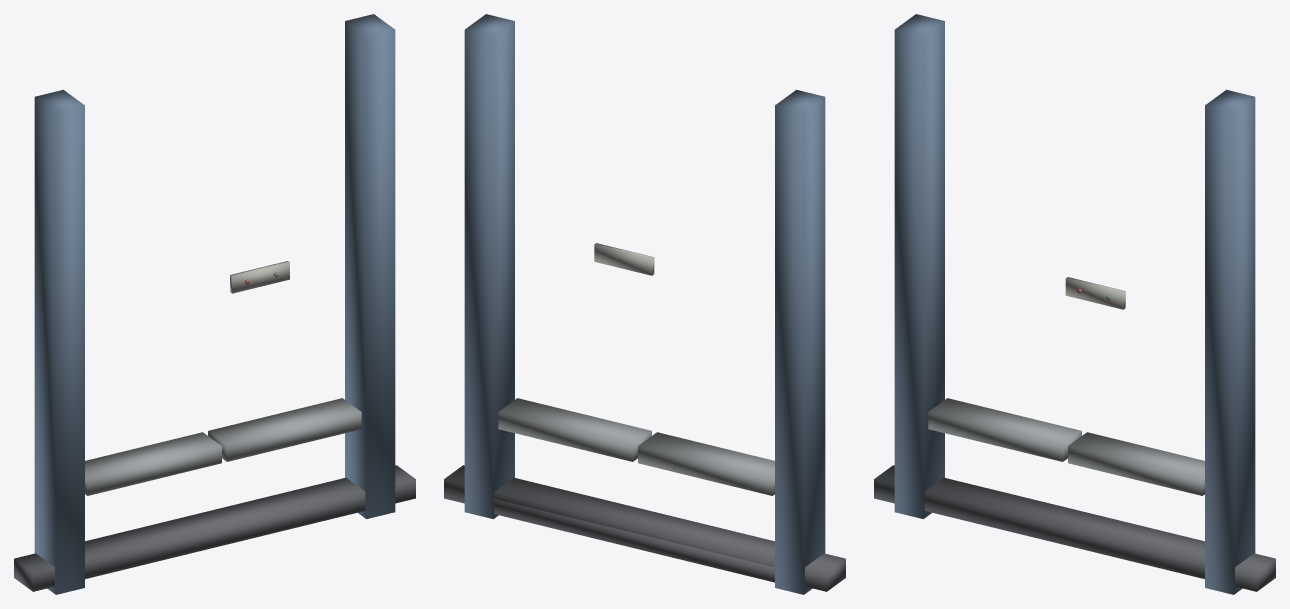
File: two_post_car_lift__reinforced.glb
The picture shows the model from 3 angles, left to right: view 1: azimuth 30°, elevation 25°; view 2: azimuth 150°, elevation 25°; view 3: azimuth 330°, elevation 25°; orthographic projection.
Visible parts, largest first — view 1: world; view 2: world; view 3: world.
Part boxes in pixels (x1,y1,x2,y2): world: (14, 14, 415, 594); world: (444, 14, 845, 594); world: (874, 14, 1275, 594).
Size of the model in its own units: 1.91 by 2.3 by 0.2173.
